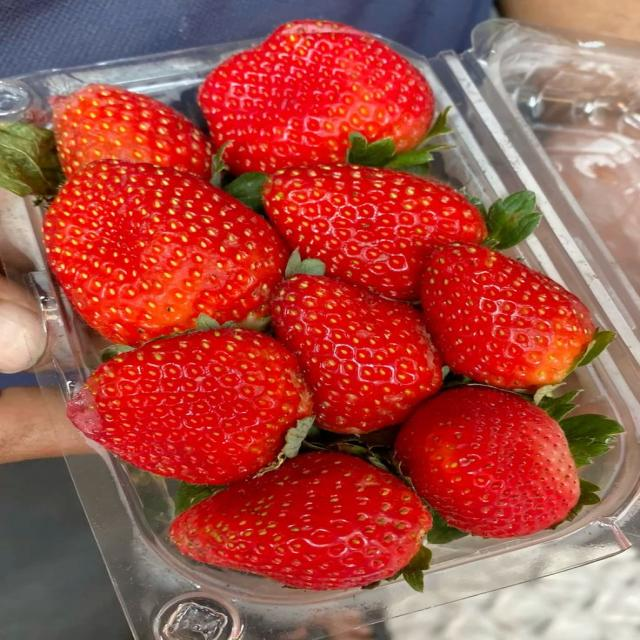strawberry: (44, 160, 287, 344), (67, 328, 312, 484), (199, 21, 433, 174), (170, 453, 431, 589), (263, 165, 486, 300), (394, 385, 579, 537), (272, 275, 441, 433), (422, 244, 594, 390), (50, 84, 211, 179)
